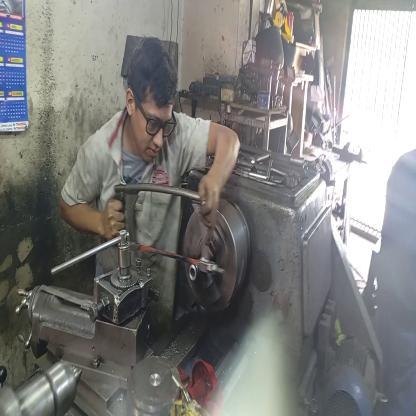lentes: (133, 91, 175, 145)
